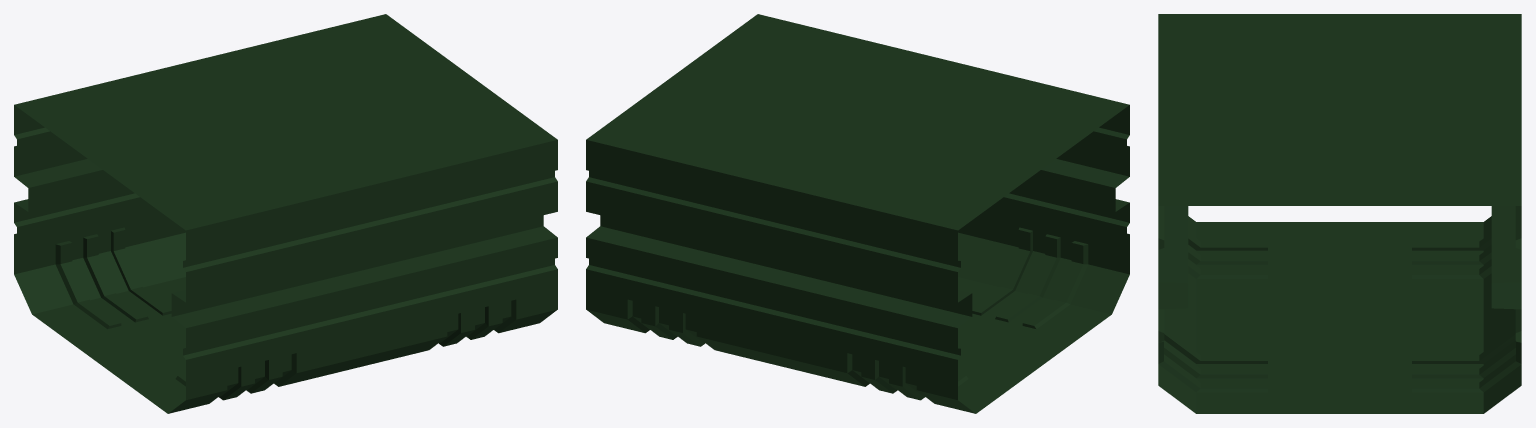
Rendered from Floor.fbx.
3 views of the same model, side by side, from view 1: azimuth 30°, elevation 25°; view 2: azimuth 150°, elevation 25°; view 3: azimuth 270°, elevation 25° (orthographic). The views are drawn at different scales.
Visible parts, largest first — view 1: Cube.001; view 2: Cube.001; view 3: Cube.001.
Part boxes in pixels (box(x1,y1,x2,y2)): Cube.001: box(14, 14, 557, 413); Cube.001: box(586, 14, 1129, 413); Cube.001: box(1158, 14, 1521, 413).
Bounding box in the file's own units: 5204 × 2628 × 4163.
